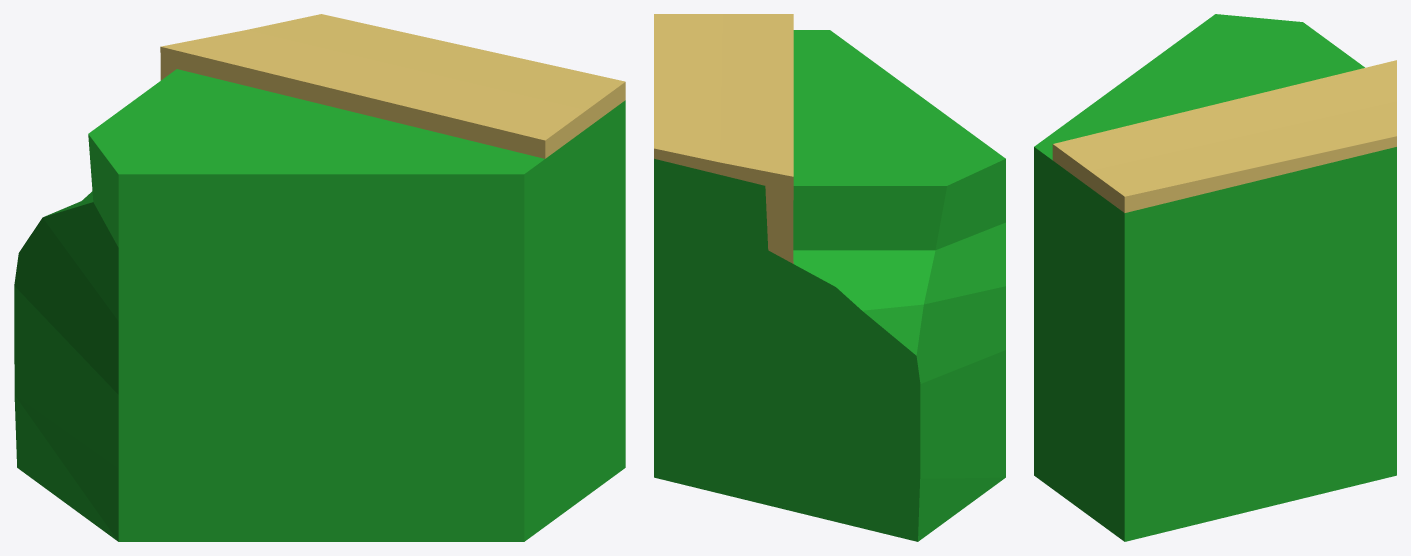
File: module-corner_land_cliff_big_stairs_003.glb
3 views of the same model, side by side, from view 1: azimuth 30°, elevation 25°; view 2: azimuth 150°, elevation 25°; view 3: azimuth 270°, elevation 25° (orthographic). The views are drawn at different scales.
Parts seen in each view (by area): view 1: module-corner_land_cliff_big_stairs_003; view 2: module-corner_land_cliff_big_stairs_003; view 3: module-corner_land_cliff_big_stairs_003.
Boxes of the visible parts, left/top/right/bottom form: module-corner_land_cliff_big_stairs_003: left=14, top=14, right=625, bottom=541; module-corner_land_cliff_big_stairs_003: left=654, top=14, right=1005, bottom=541; module-corner_land_cliff_big_stairs_003: left=1034, top=14, right=1396, bottom=541.
Size of the model in its own units: 0.6536 by 0.525 by 0.5.
